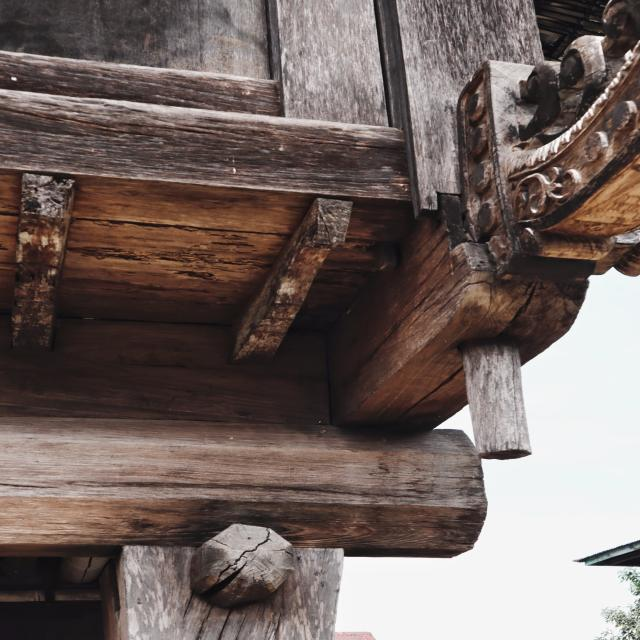Ornamen: (457, 0, 640, 283)
